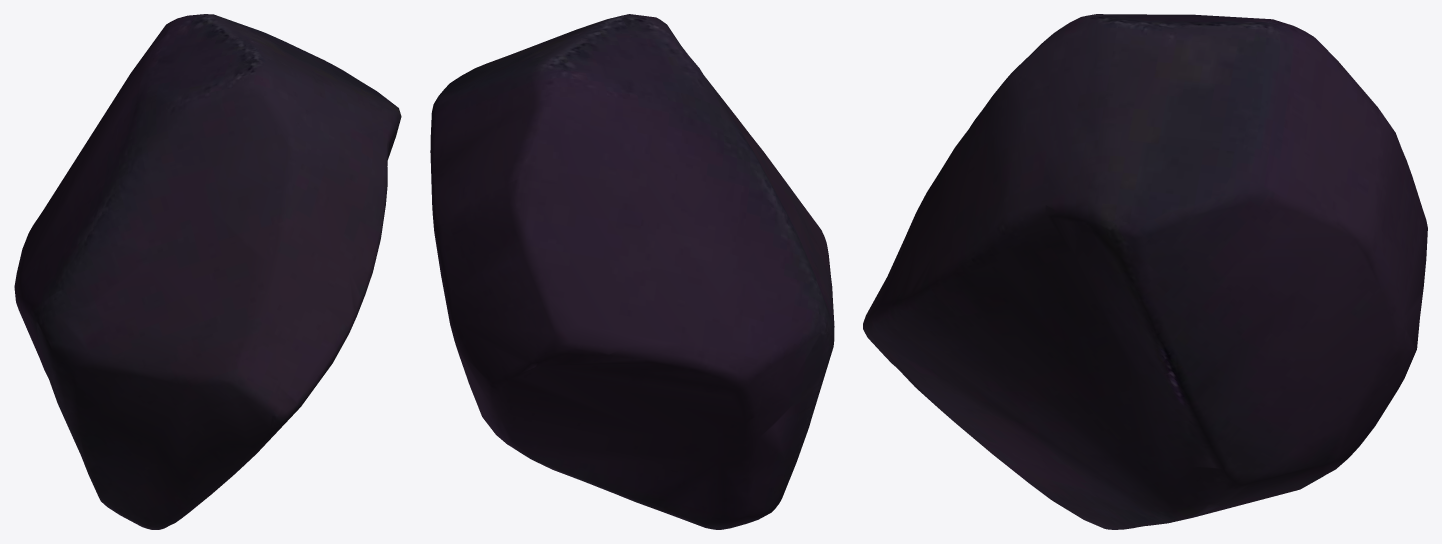
Rendered from orion_roca.glb.
3 views of the same model, side by side, from view 1: azimuth 30°, elevation 25°; view 2: azimuth 150°, elevation 25°; view 3: azimuth 270°, elevation 25° (orthographic). The views are drawn at different scales.
Parts seen in each view (by area): view 1: geometry_0; view 2: geometry_0; view 3: geometry_0.
Part boxes in pixels (bbox=[...]): geometry_0: bbox=[14, 14, 401, 529]; geometry_0: bbox=[430, 14, 834, 529]; geometry_0: bbox=[863, 14, 1427, 529].
Bounding box in the file's own units: 0.8359 × 1 × 0.8999.
1 material, 1 textured.
